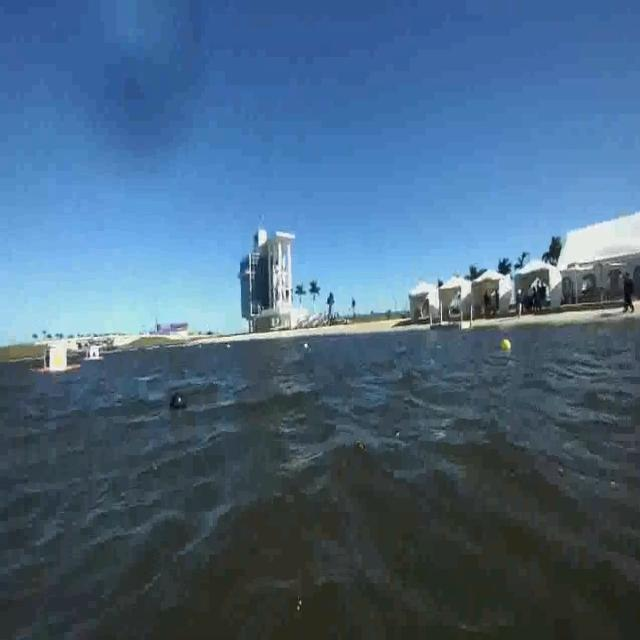black-buoy: (168, 388, 188, 419)
yellow-buoy: (500, 337, 512, 355)
